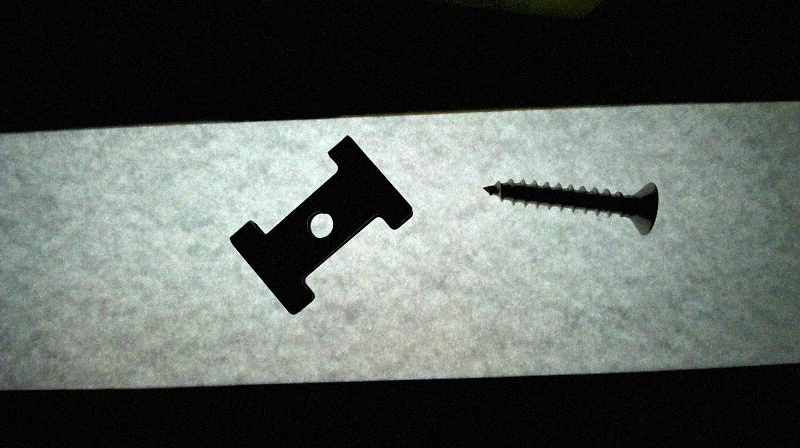O002: (226, 132, 419, 316)
S001: (473, 174, 662, 240)
